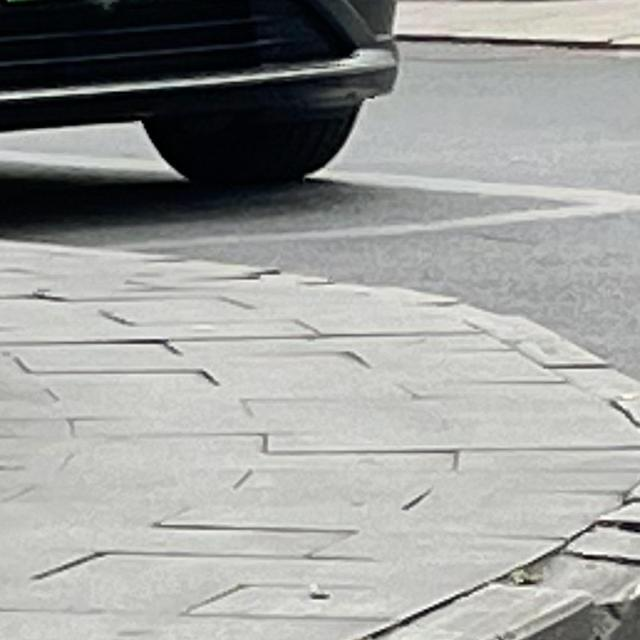curb: (360, 479, 640, 640), (480, 312, 639, 434), (396, 35, 639, 49)
